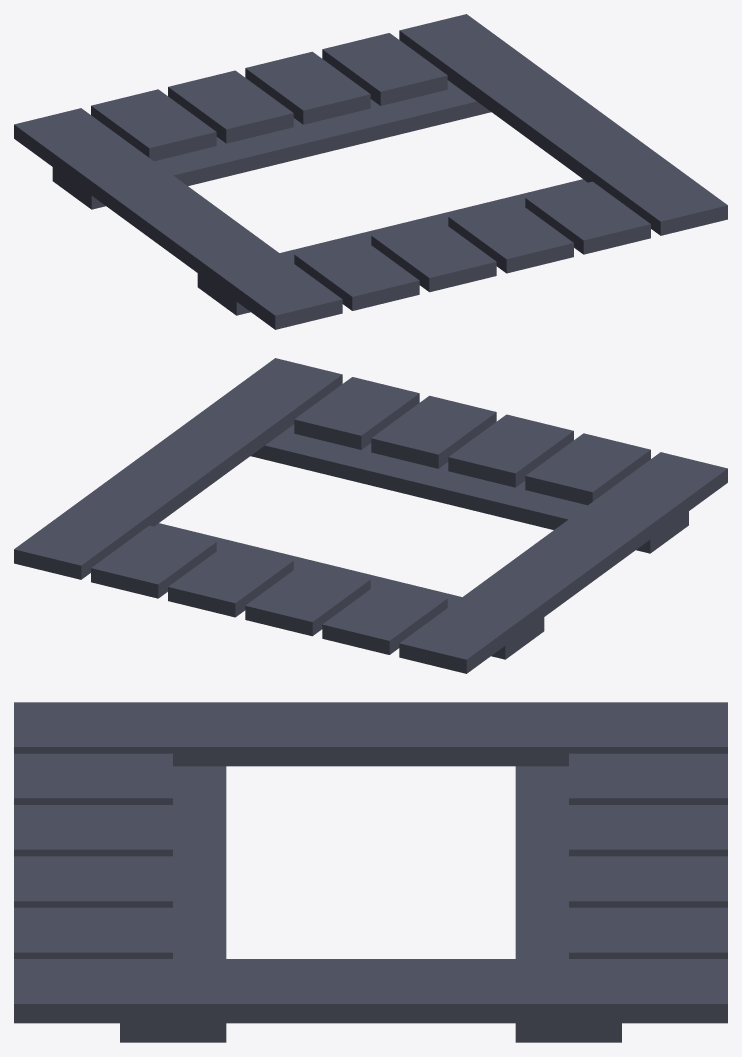
The model's file is planks-opening.glb.
3 renders of one model, top to bottom at view 1: azimuth 30°, elevation 25°; view 2: azimuth 150°, elevation 25°; view 3: azimuth 270°, elevation 25°, orthographic. The views are drawn at different scales.
Visible parts, largest first — view 1: planks-opening; view 2: planks-opening; view 3: planks-opening.
Part boxes in pixels (left/top/right/bottom): planks-opening: left=14, top=14, right=727, bottom=329; planks-opening: left=14, top=358, right=727, bottom=673; planks-opening: left=14, top=702, right=727, bottom=1042.
Bounding box in the file's own units: 1 × 0.06 × 1.
1 material, 1 textured.
